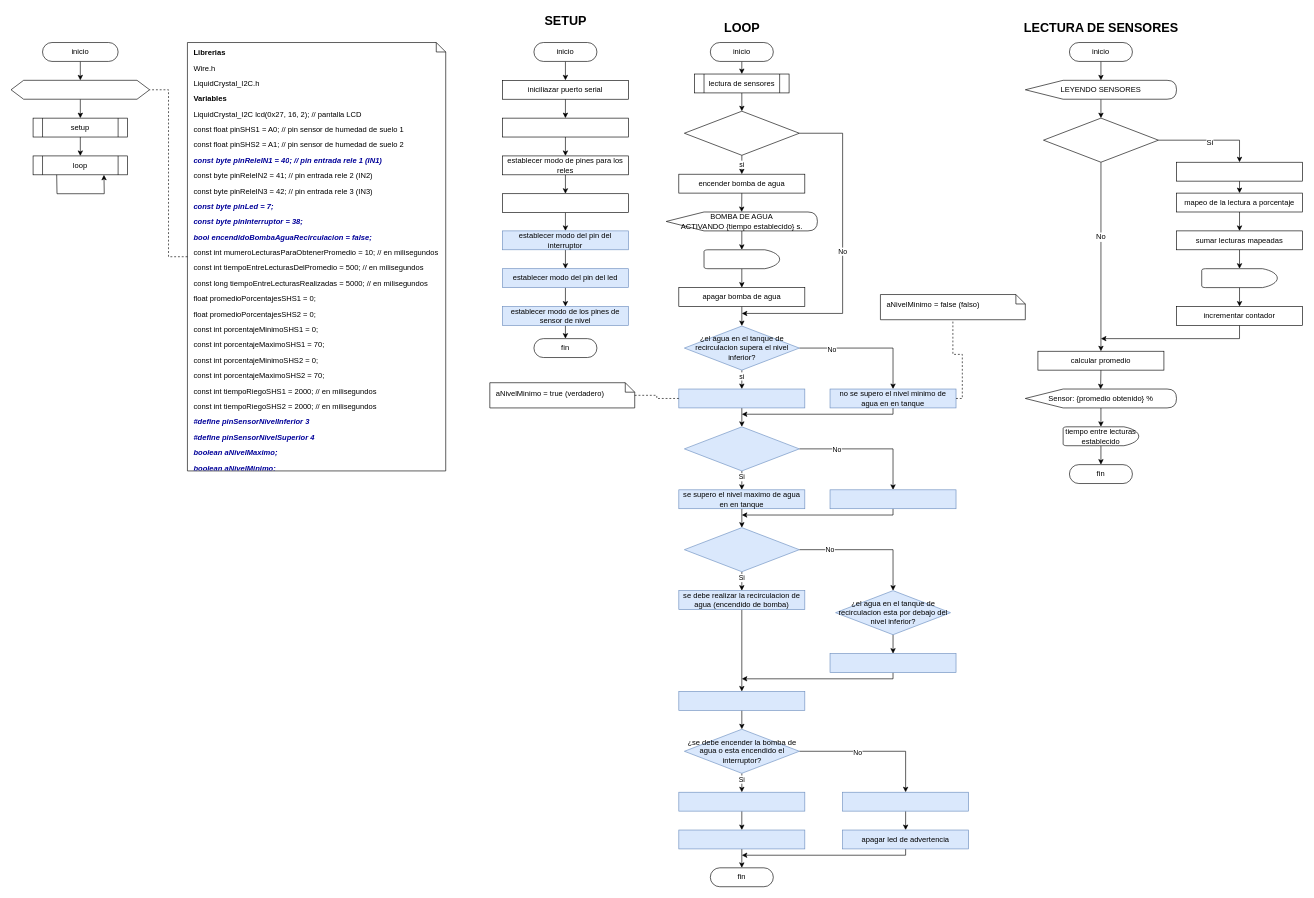
Some shapes in this 1314 by 898 pixel diagram are drawn without their labels. Here are the shapes that lost their labels. From the top down, the centre of each, then its label:
At point (80, 89): "- inclusion de librerias - declaracion de variables globales".
At point (565, 127): "iniciliazar pantalla LCD".
At point (741, 133): "¿promedio de lecturas de humedad es menor al requerido?".
At point (1100, 139): "contador < numero de lecturas establecidas".
At point (1239, 171): "leer sensores de humedad de suelo".
At point (565, 203): "establecer bombas de agua como apagadas".
At point (741, 259): "tiempo de riego establecido".
At point (1239, 278): "tiempo entre lecturas promedio establecido".
At point (741, 398): "se supero el nivel minimo de agua en en tanque".
At point (741, 448): "¿el agua en el tanque de recirculacion supera el nivel superior?".
At point (892, 499): "no se supero el nivel maximo de agua en en tanque".
At point (741, 549): "¿se supero el nivel inferior y se supero el nivel superior en el tanque de agua?".
At point (892, 663): "se debe apagar la recirculacion de agua (apagado de bomba)".
At point (741, 700): "lectura del interruptor".
At point (741, 801): "encender bomba de agua de recirculacion".
At point (905, 801): "apagar bomba de agua de recirculacion".
At point (741, 839): "encender led de advertencia".
